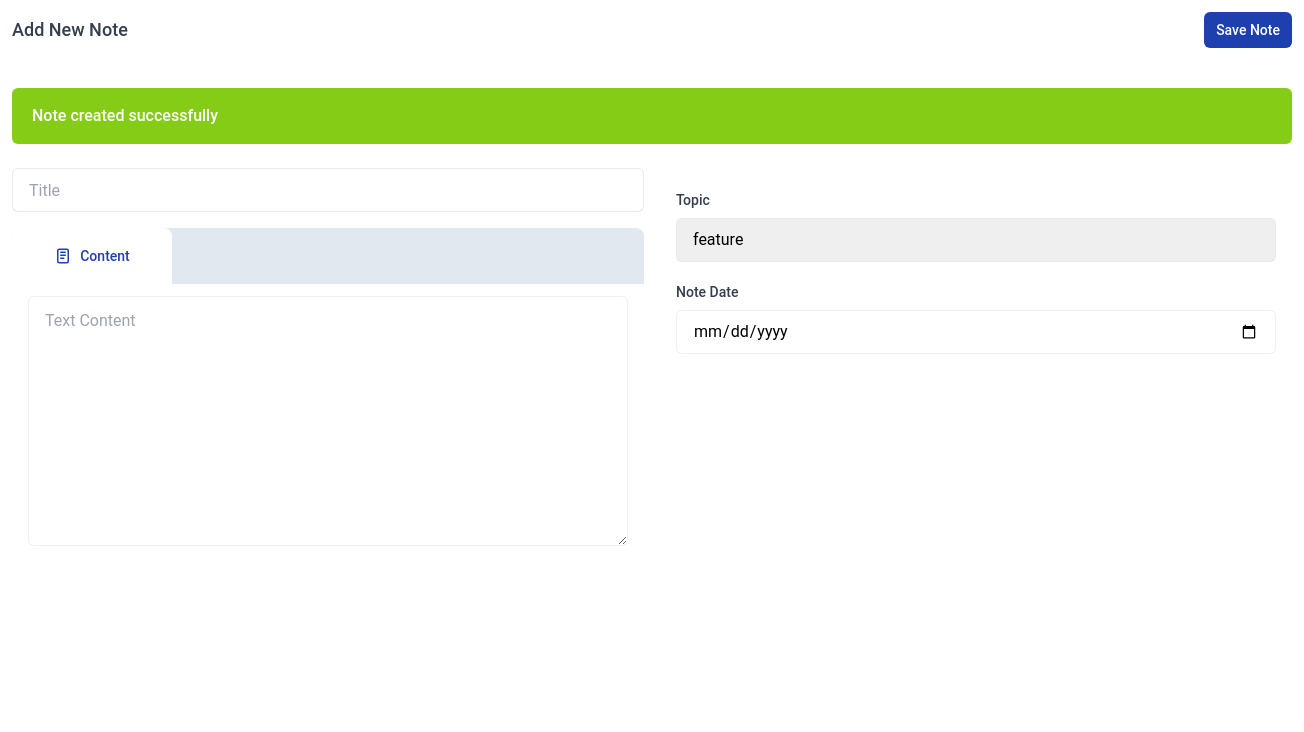
Scenario: AddNote › success adding a note › error banner should be visible when payload is invalid
The width and height of the screenshot is (1304, 732).
Select "" in the dropdown at (976, 240), box [676,218,1276,262]
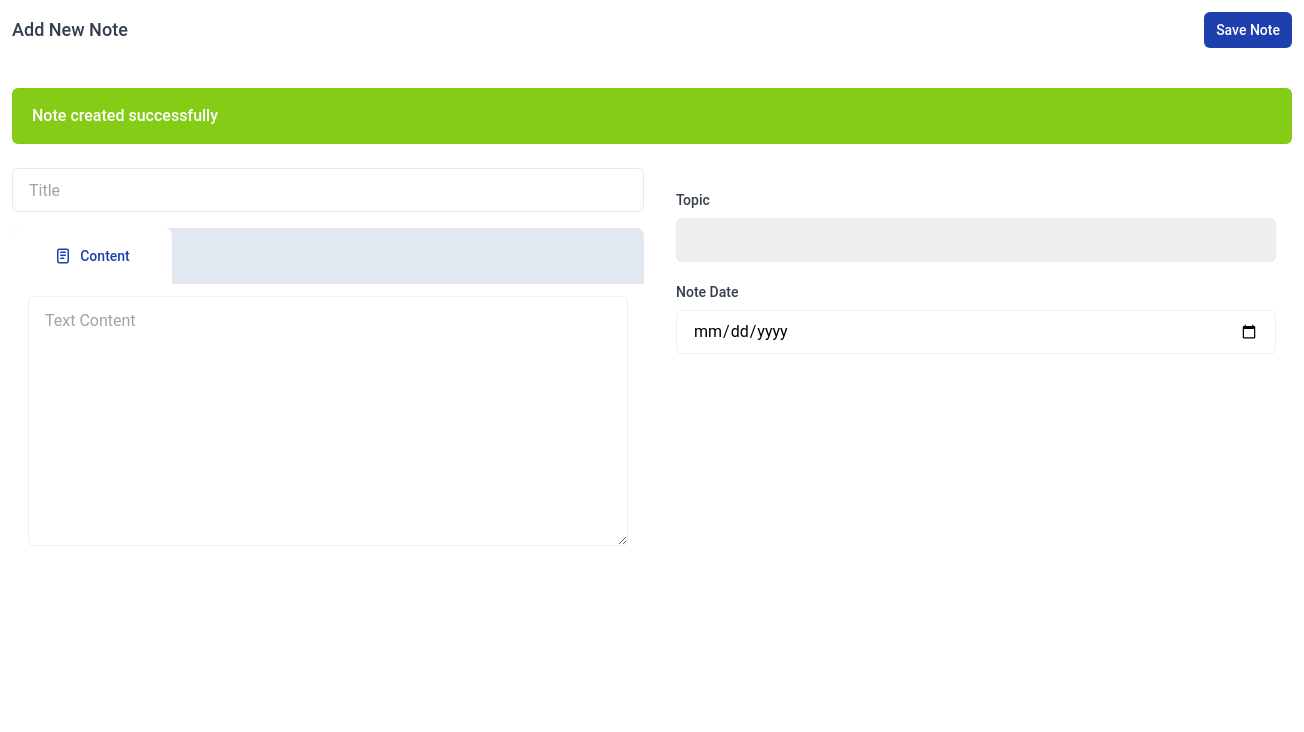
Click the button "Save Note" at (1248, 30), box [1204,12,1292,48]
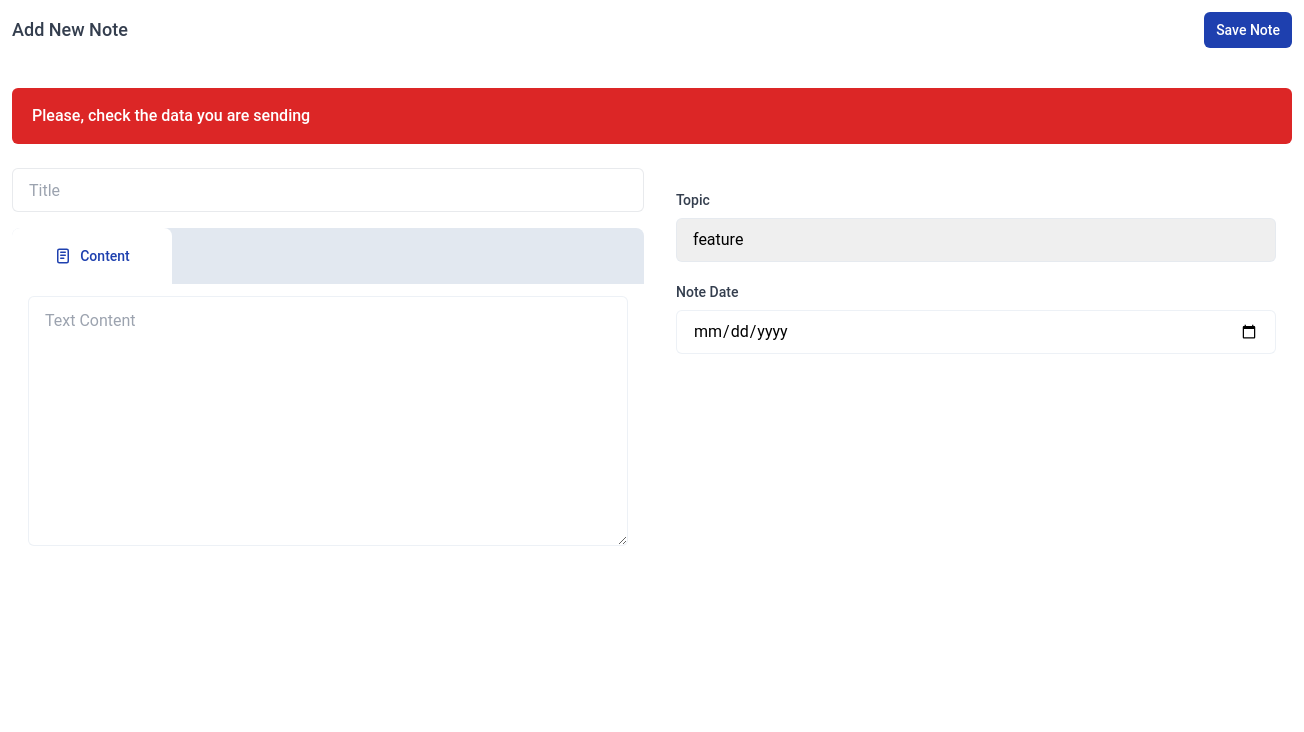
Check: the text "Please, check the data you are sending" is shown, box [12,88,1292,144]
